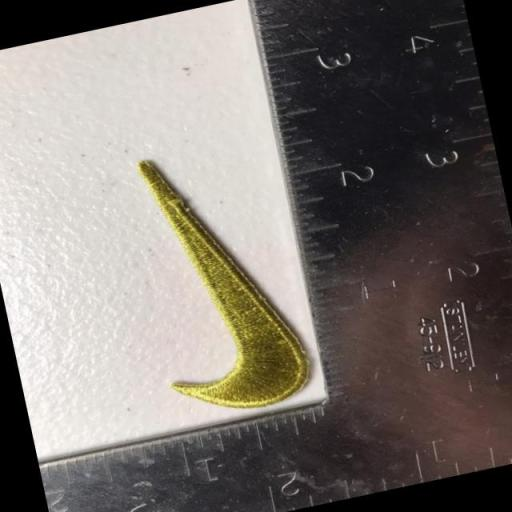Nike: (130, 132, 316, 421)
